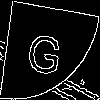G: (25, 25, 65, 76)
